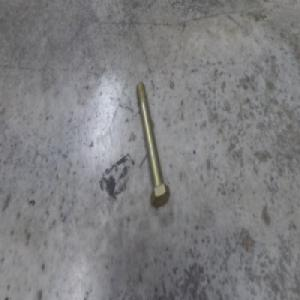Bolt: (138, 81, 173, 206)
